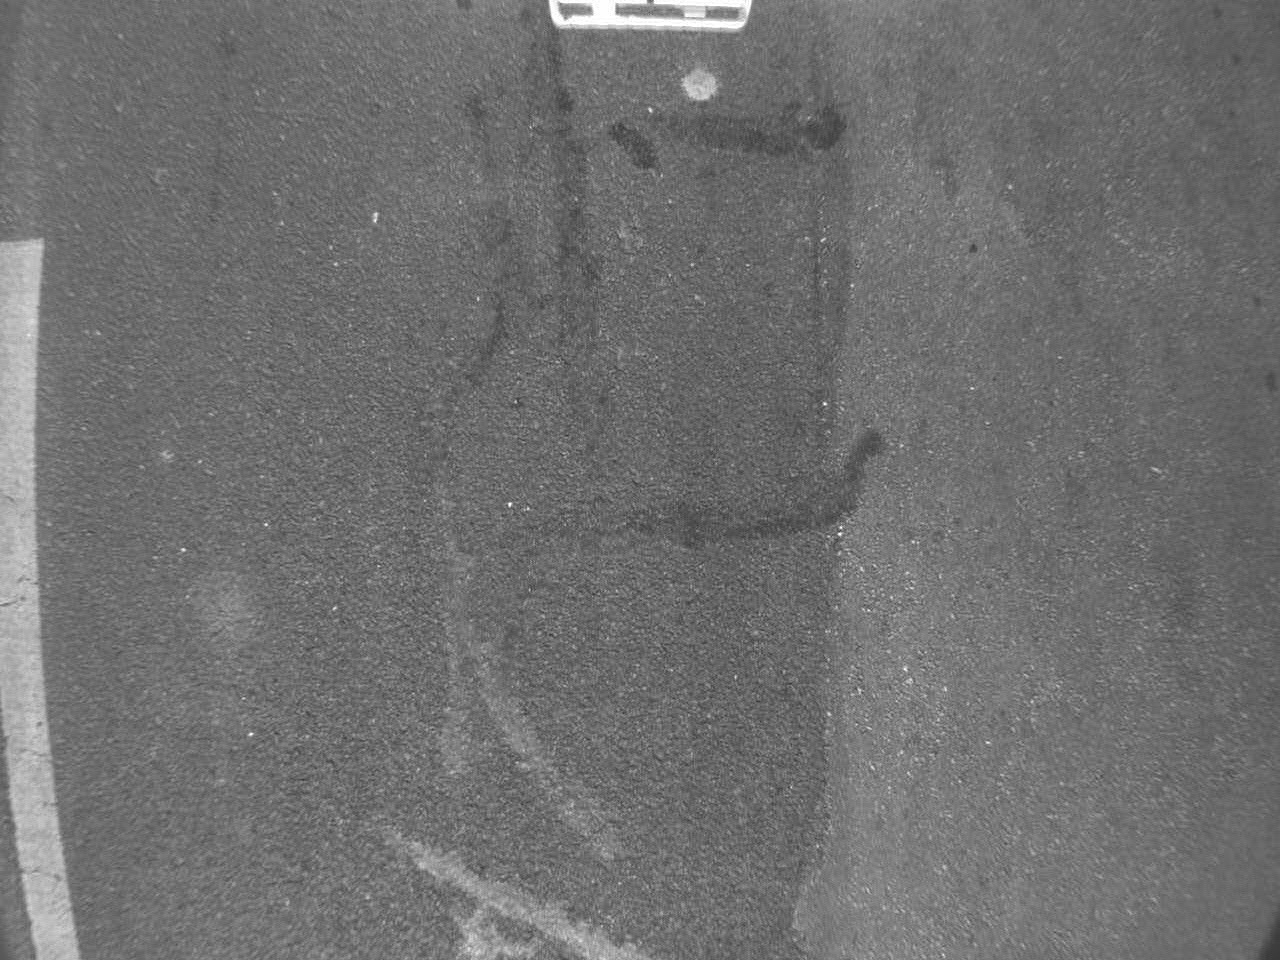sealed: (415, 837, 670, 960)
